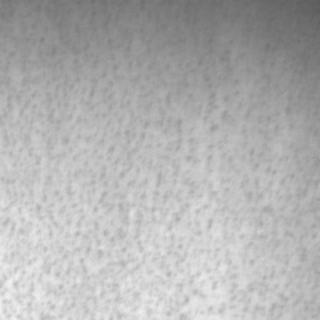pitted_surface: (1, 58, 282, 314)
